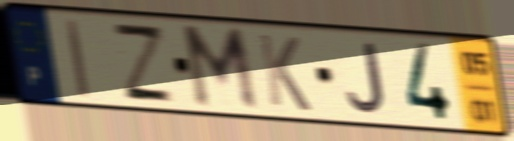4: (403, 39, 455, 125)
I: (63, 16, 94, 102)
J: (343, 41, 389, 116)
K: (255, 30, 315, 115)
M: (177, 23, 263, 116)
Z: (107, 19, 179, 106)
